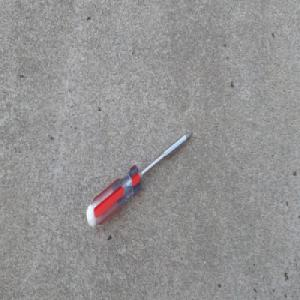Screwdriver: (85, 130, 193, 228)
